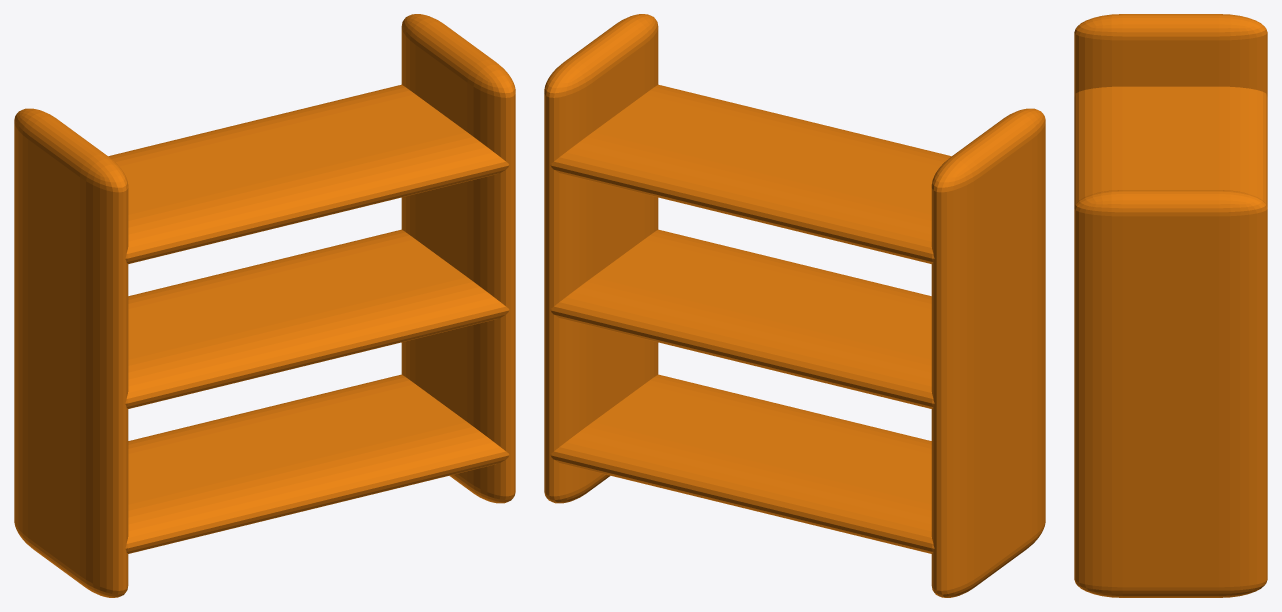
Rendered from Shelf3.fbx.
3 renders of one model, left to right at view 1: azimuth 30°, elevation 25°; view 2: azimuth 150°, elevation 25°; view 3: azimuth 270°, elevation 25°, orthographic. The views are drawn at different scales.
Visible parts, largest first — view 1: Cube.002; view 2: Cube.002; view 3: Cube.002.
Part boxes in pixels (x1,y1,x2,y2): Cube.002: [14, 14, 515, 597]; Cube.002: [544, 14, 1045, 597]; Cube.002: [1074, 14, 1267, 597].
Bounding box in the file's own units: 60.96 × 60 × 25.98.
